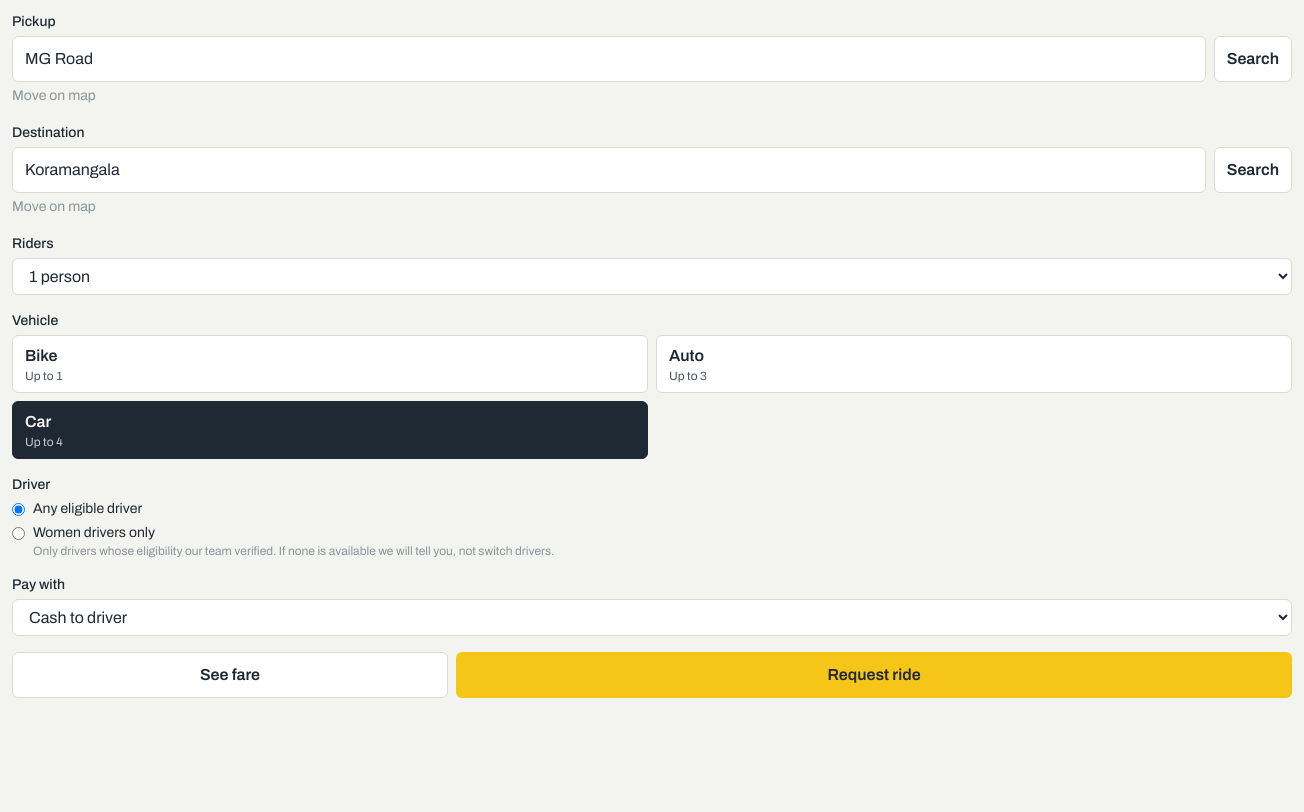
Scenario: #90 booking form › fare estimate comes from the server and is labelled as an estimate
Click the button "See fare": (230, 675) [12,652,448,698]
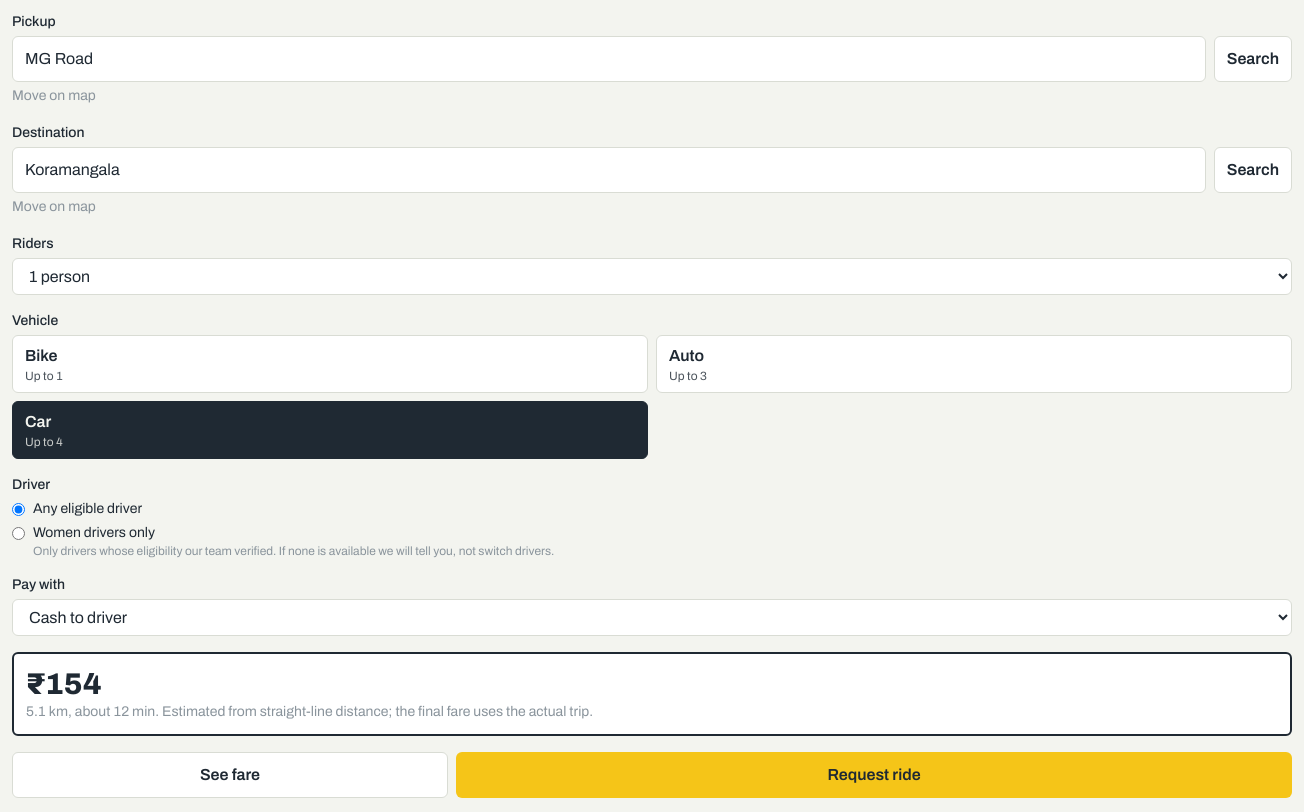
Now the element with test id "estimate" shows "154", box [26,668,102,700]
Now the element with test id "estimate" shows "straight-line", box [162,704,593,719]
